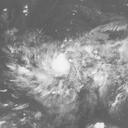cyclone: (34, 45, 79, 90)
